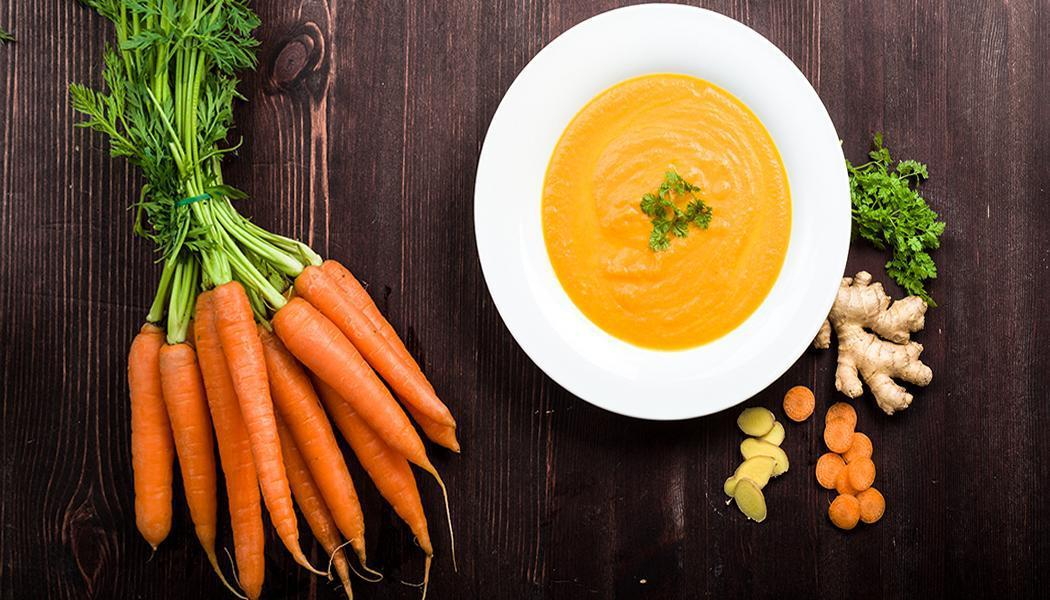carrot: (73, 8, 466, 600), (109, 258, 475, 598), (275, 253, 449, 572), (198, 274, 304, 575), (123, 325, 230, 563)
